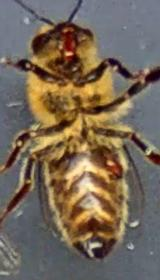varroa_mite: (100, 148, 125, 179)
